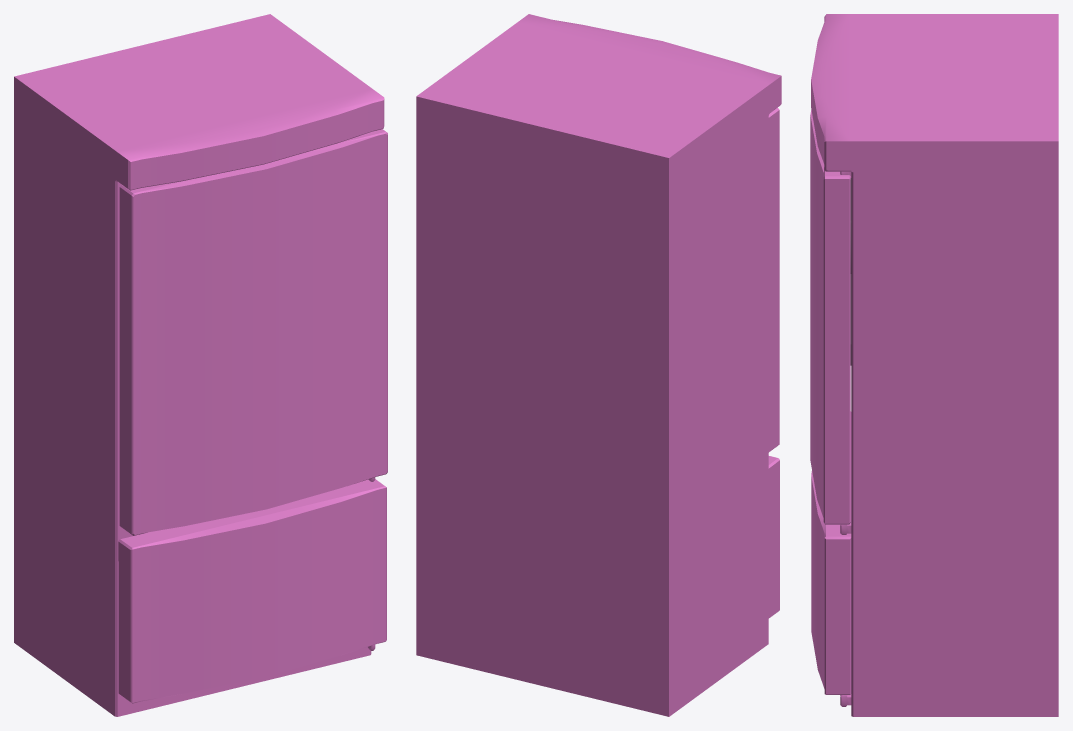
The model's file is Fridge.FBX.
The picture shows the model from 3 angles, left to right: view 1: azimuth 30°, elevation 25°; view 2: azimuth 150°, elevation 25°; view 3: azimuth 270°, elevation 25°; orthographic projection. The views are drawn at different scales.
Parts seen in each view (by area): view 1: Fridge, Door_Top, Door_Freezer; view 2: Fridge, Door_Top, Door_Freezer; view 3: Fridge, Door_Top, Door_Freezer.
Boxes of the visible parts, x1,y1,x2,y2 form: Fridge: (14, 14, 384, 716); Door_Top: (119, 129, 387, 535); Door_Freezer: (118, 479, 386, 703); Fridge: (416, 14, 781, 716); Door_Top: (768, 107, 779, 452); Door_Freezer: (768, 456, 779, 618); Fridge: (811, 14, 1058, 716); Door_Top: (810, 110, 851, 524); Door_Freezer: (811, 411, 851, 694).
Size of the model in its own units: 45.5 by 95 by 37.1.
